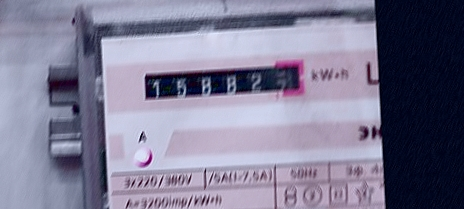1: (151, 77, 161, 96)
2: (250, 70, 263, 91)
5: (173, 76, 188, 96)
7: (274, 76, 287, 89)
8: (224, 71, 238, 93), (200, 74, 213, 94)
screen: (139, 57, 309, 105)
